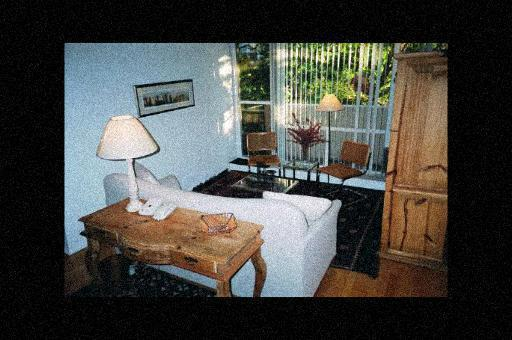Armario: (391, 54, 447, 270)
